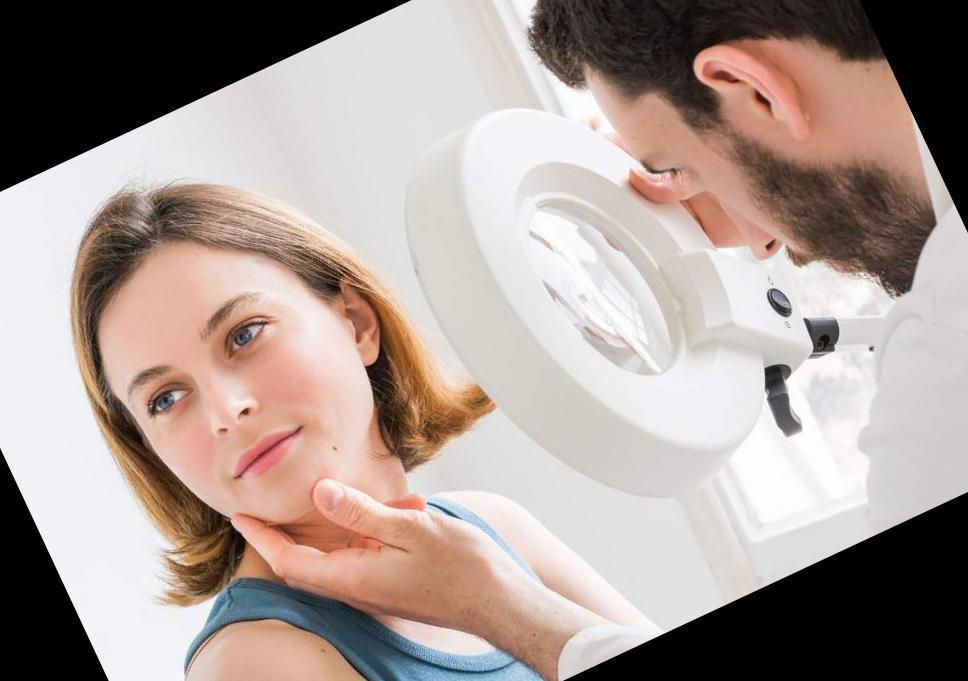Sober: (105, 250, 347, 495)
